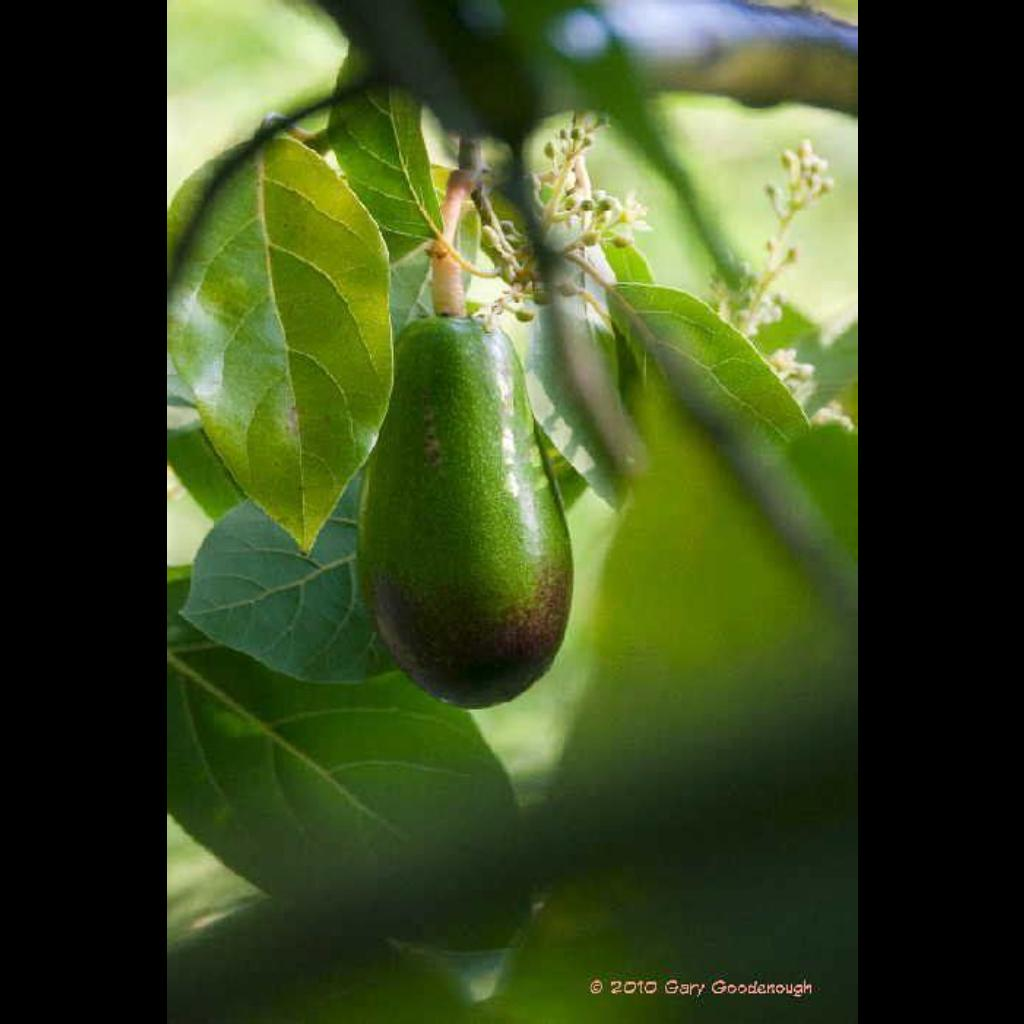fruto_sano: (360, 275, 596, 731)
